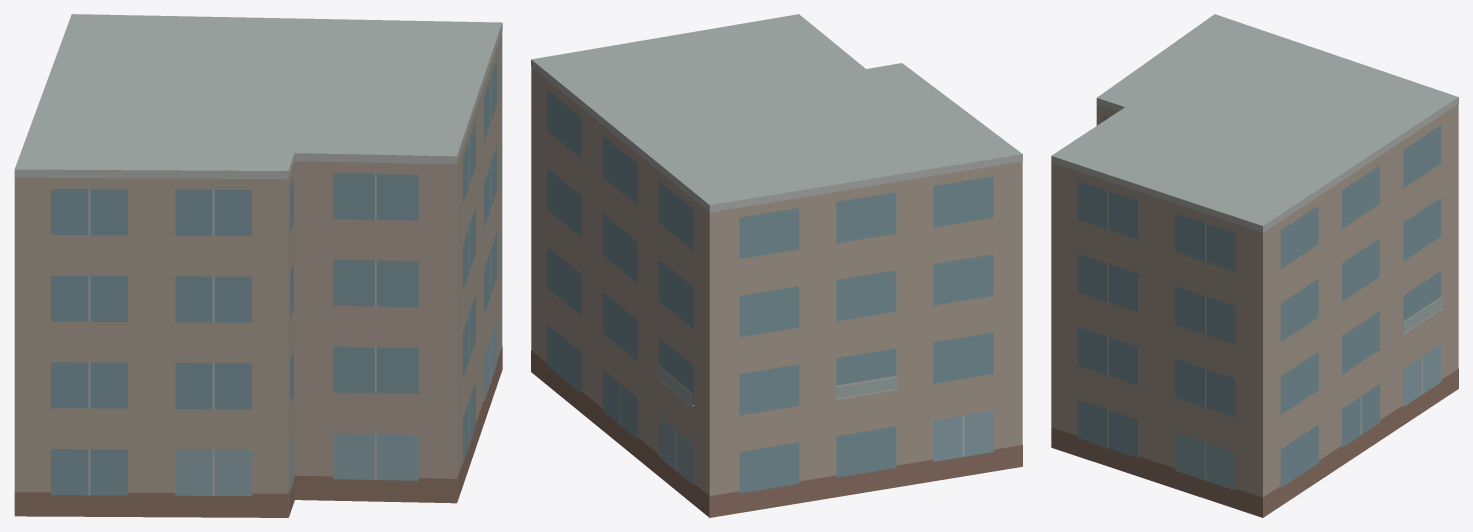
File: survey-upis-32955751.glb
3 views of the same model, side by side, from view 1: azimuth 30°, elevation 25°; view 2: azimuth 150°, elevation 25°; view 3: azimuth 270°, elevation 25° (orthographic). The views are drawn at different scales.
Parts seen in each view (by area): view 1: survey-upis-32955751.tmp; view 2: survey-upis-32955751.tmp; view 3: survey-upis-32955751.tmp.
Part boxes in pixels (box(x1,y1,x2,y2)): survey-upis-32955751.tmp: box(14, 14, 502, 517); survey-upis-32955751.tmp: box(531, 14, 1022, 517); survey-upis-32955751.tmp: box(1051, 14, 1458, 517).
Size of the model in its own units: 16.22 by 10.4 by 13.17.
